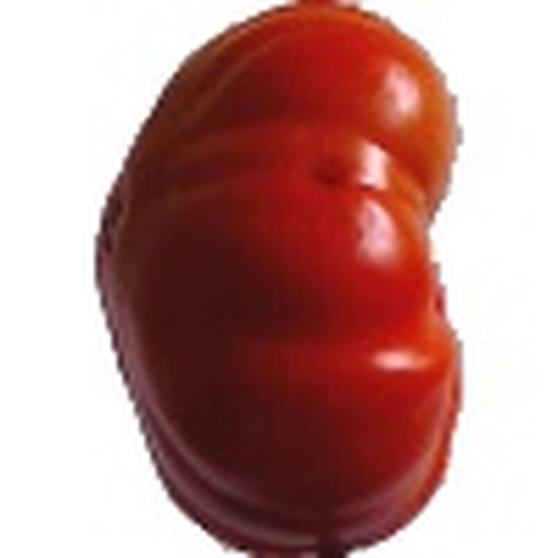tomato: (90, 5, 475, 554)
